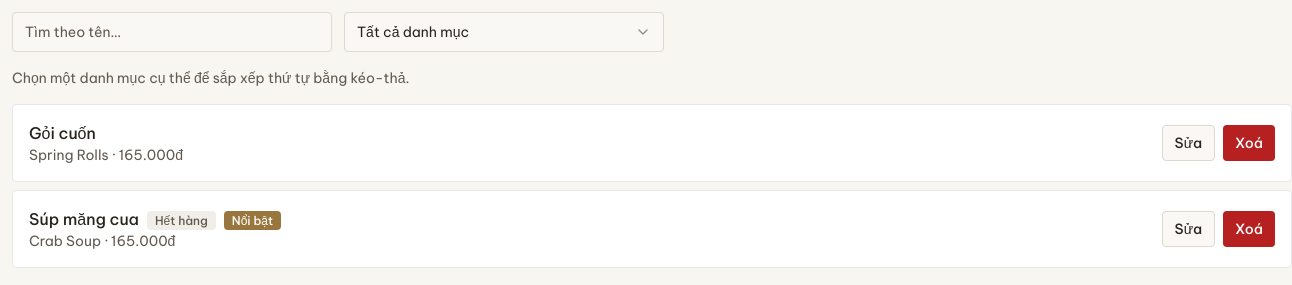
MenuItemsTable › renders the read-only list (not SortableList) when a category is selected AND search has text
Press Enter in the dropdown, box top-left (344, 12), bottom-right (664, 52)
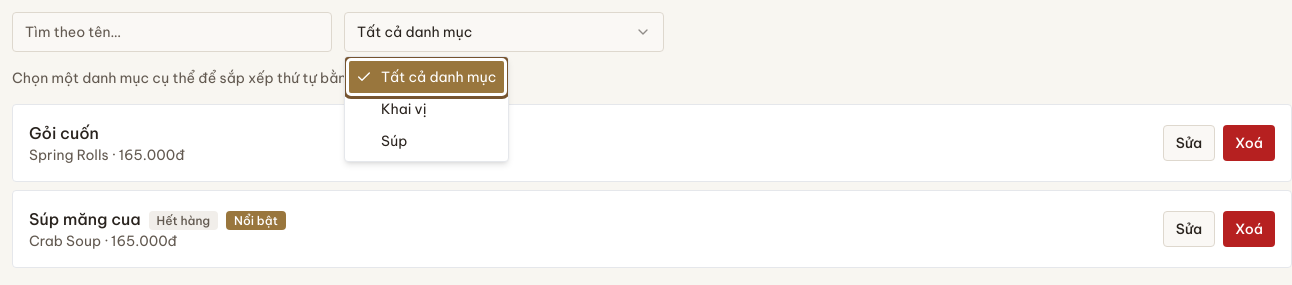
Press Enter in the option "Khai vị", box top-left (381, 100), bottom-right (426, 118)
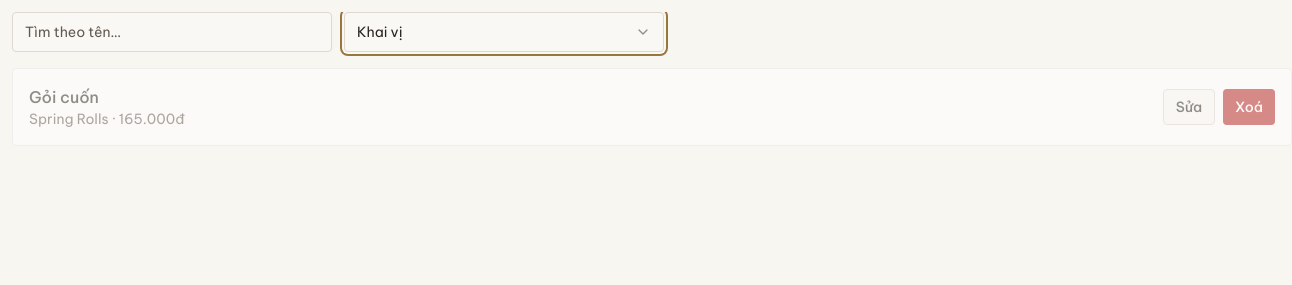
Now the dropdown reads "Khai vị", box top-left (344, 12), bottom-right (664, 52)
Type "Gỏi" into the field with placeholder "Tìm theo tên…".
click(172, 32); type("Gỏi")  # box top-left (12, 12), bottom-right (332, 52)
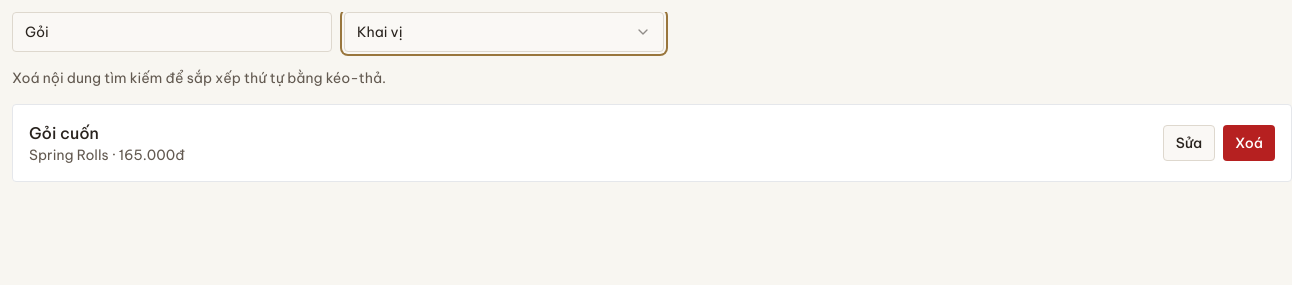
Expected: the text "Gỏi cuốn" is shown, top-left (29, 123), bottom-right (99, 143)
Now the text "Xoá nội dung tìm kiếm để sắp xếp thứ tự bằng kéo-thả." is shown, box top-left (12, 69), bottom-right (386, 87)
